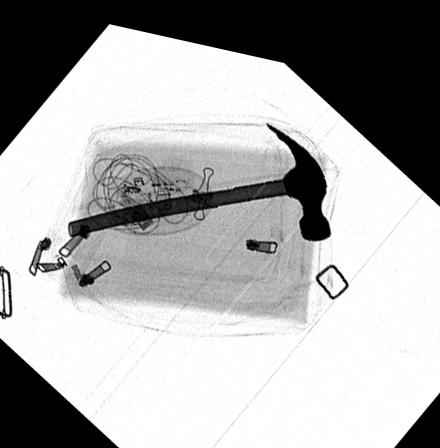Hammer: (66, 108, 330, 234)
